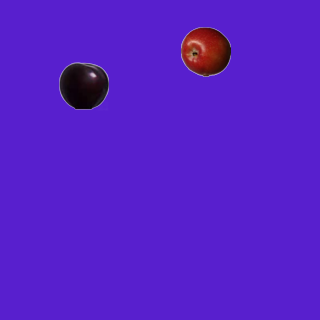Apple Braeburn: (180, 26, 230, 76)
Cherry Wax Black: (58, 60, 108, 110)
